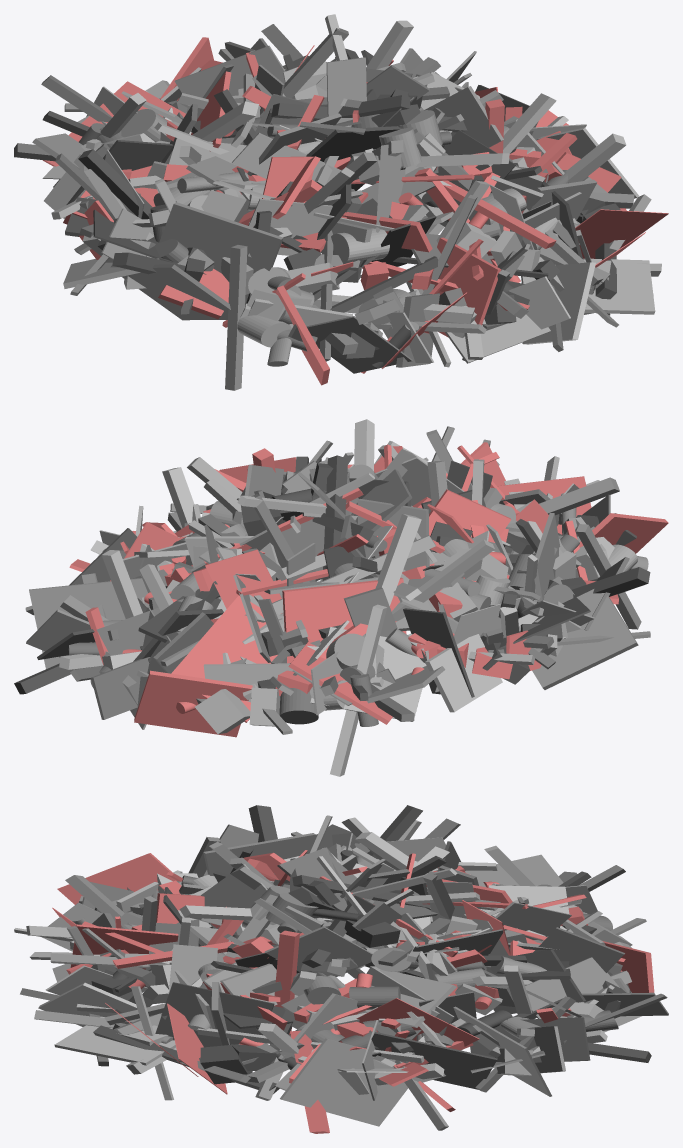
The model's file is Pilon Metal.fbx.
3 views of the same model, one above another, from view 1: azimuth 30°, elevation 25°; view 2: azimuth 150°, elevation 25°; view 3: azimuth 270°, elevation 25° (orthographic). The views are drawn at different scales.
Visible parts, largest first — view 1: Lamina_219; view 2: Lamina_219; view 3: Lamina_219.
Boxes of the visible parts, x1,y1,x2,y2 form: Lamina_219: (14, 14, 668, 390); Lamina_219: (14, 419, 668, 776); Lamina_219: (14, 805, 668, 1133).
Size of the model in its own units: 13194 by 4601 by 14619.
